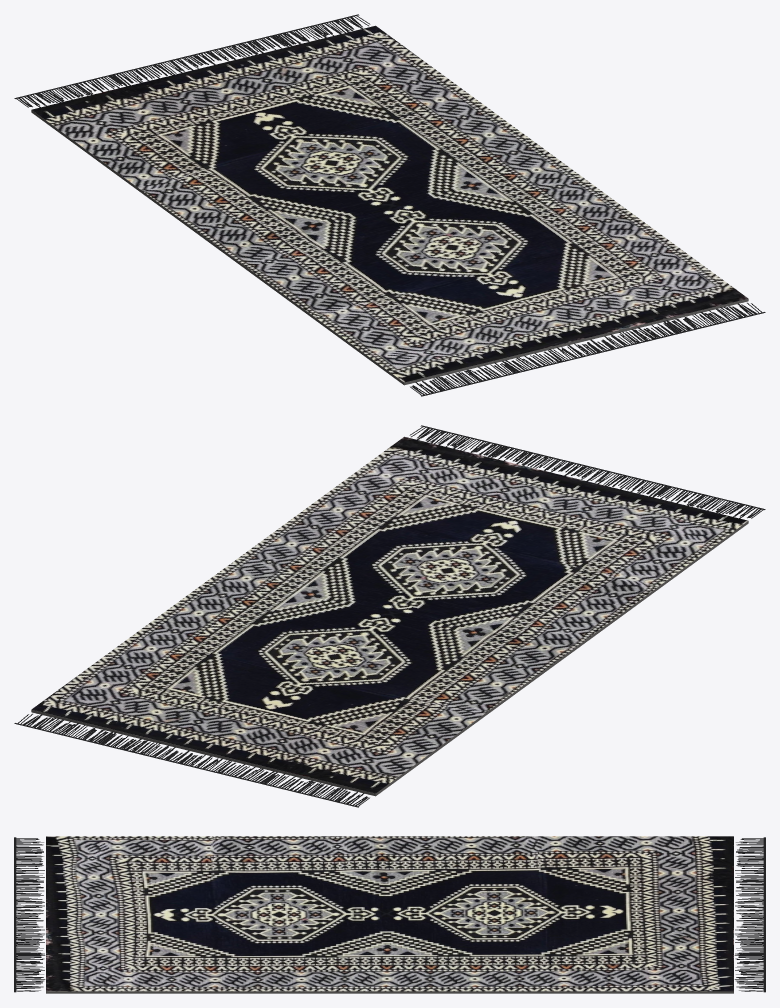
3 views of the same model, one above another, from view 1: azimuth 30°, elevation 25°; view 2: azimuth 150°, elevation 25°; view 3: azimuth 270°, elevation 25° (orthographic). The views are drawn at different scales.
Visible parts, largest first — view 1: rug, fringeB, fringeA, side; view 2: rug, fringeA, fringeB, side; view 3: rug, fringeA, fringeB, side.
Boxes of the visible parts, <box> form: rug: <box>32,25,747,382</box>; fringeB: <box>410,302,765,396</box>; fringeA: <box>14,14,370,107</box>; side: <box>31,110,748,385</box>; rug: <box>32,436,747,793</box>; fringeA: <box>14,713,369,807</box>; fringeB: <box>409,425,765,518</box>; side: <box>31,521,748,796</box>; rug: <box>46,836,733,991</box>; fringeA: <box>734,837,765,992</box>; fringeB: <box>14,837,45,992</box>; side: <box>46,991,733,993</box>.
Size of what is drawn, in the model's own units: 0.8 by 0.00614 by 1.64.
2 materials, 2 textured.
